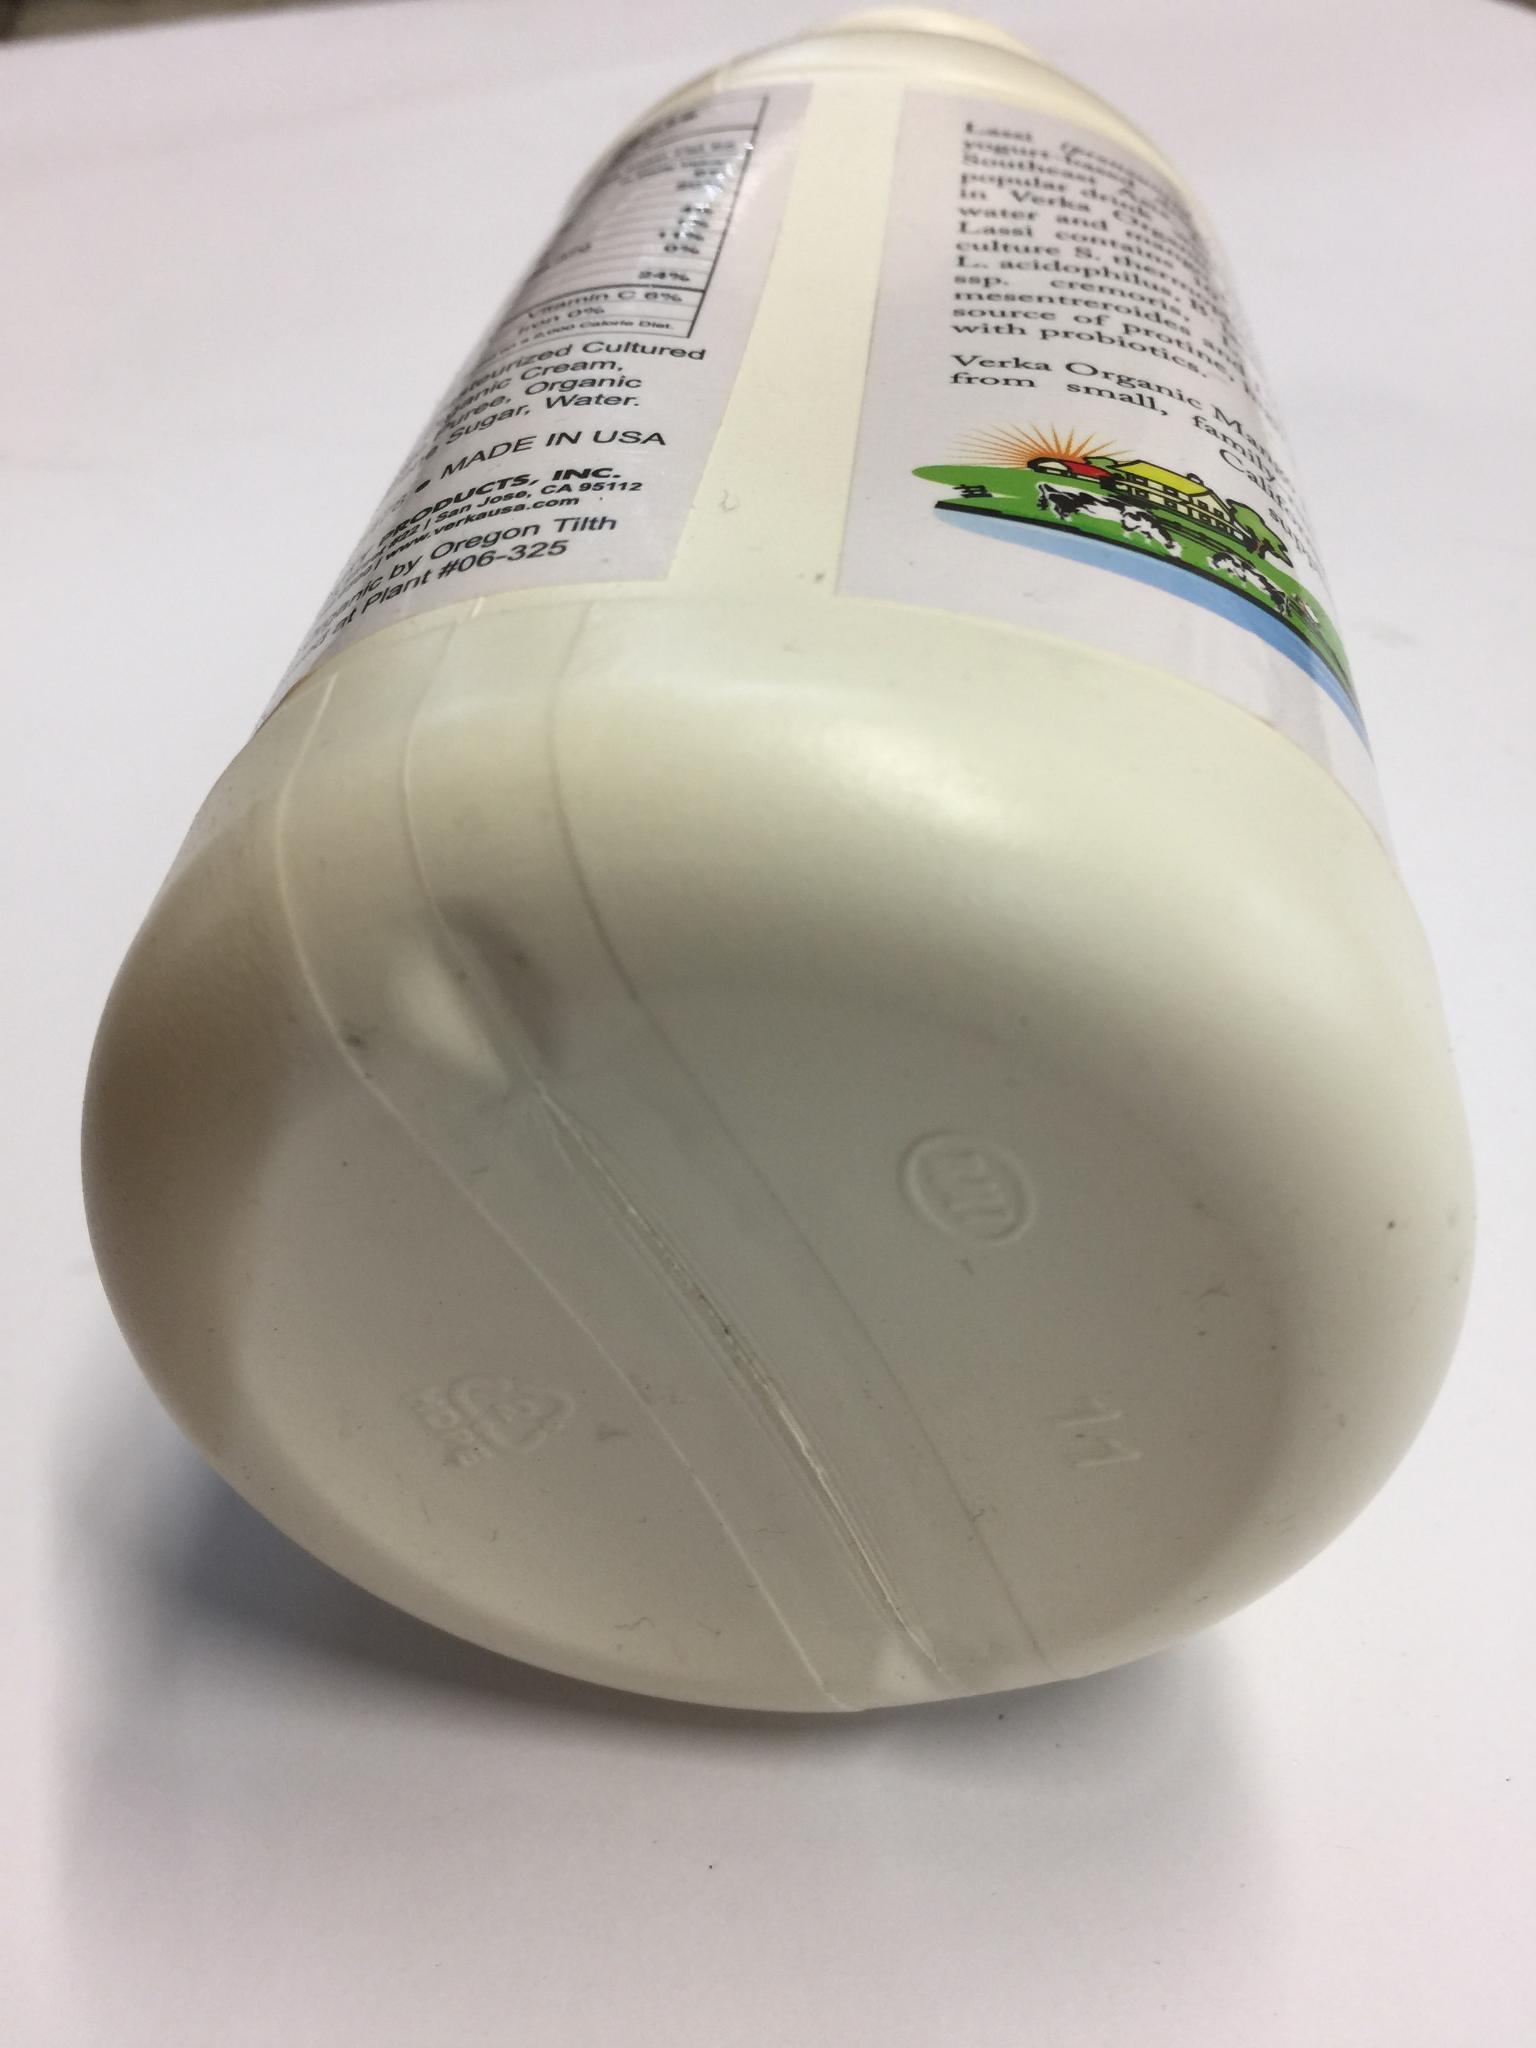Plastic: (65, 0, 1534, 1729)
